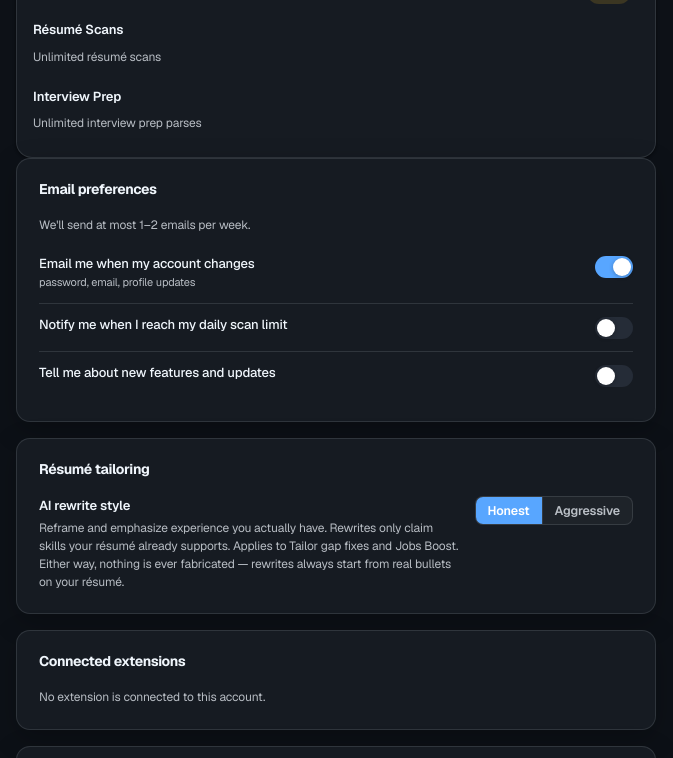
Test: AccountSettingsPage — Email preferences › shows an error state when the save fails
The width and height of the screenshot is (673, 758).
(page scrolled)
Click the switch labelled "Tell me about new features and updates" at (157, 372), box top-left (39, 351), bottom-right (633, 399)
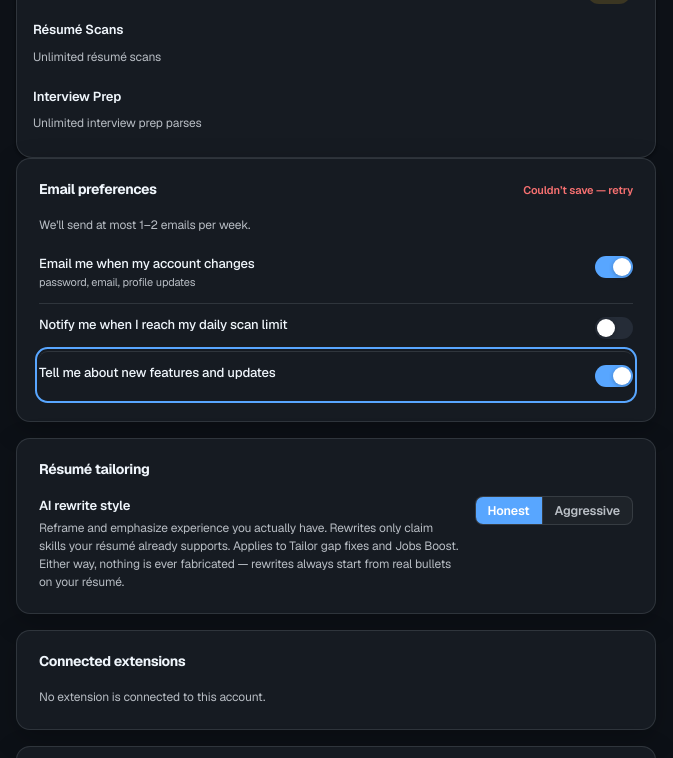
Now the text "Couldn’t save — retry" is shown, box top-left (523, 184), bottom-right (633, 198)
